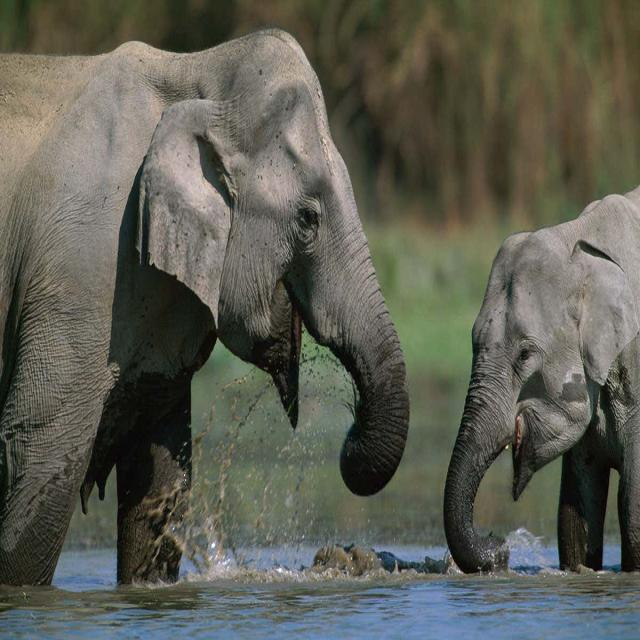Elephant: (0, 31, 409, 594), (439, 182, 640, 581)
